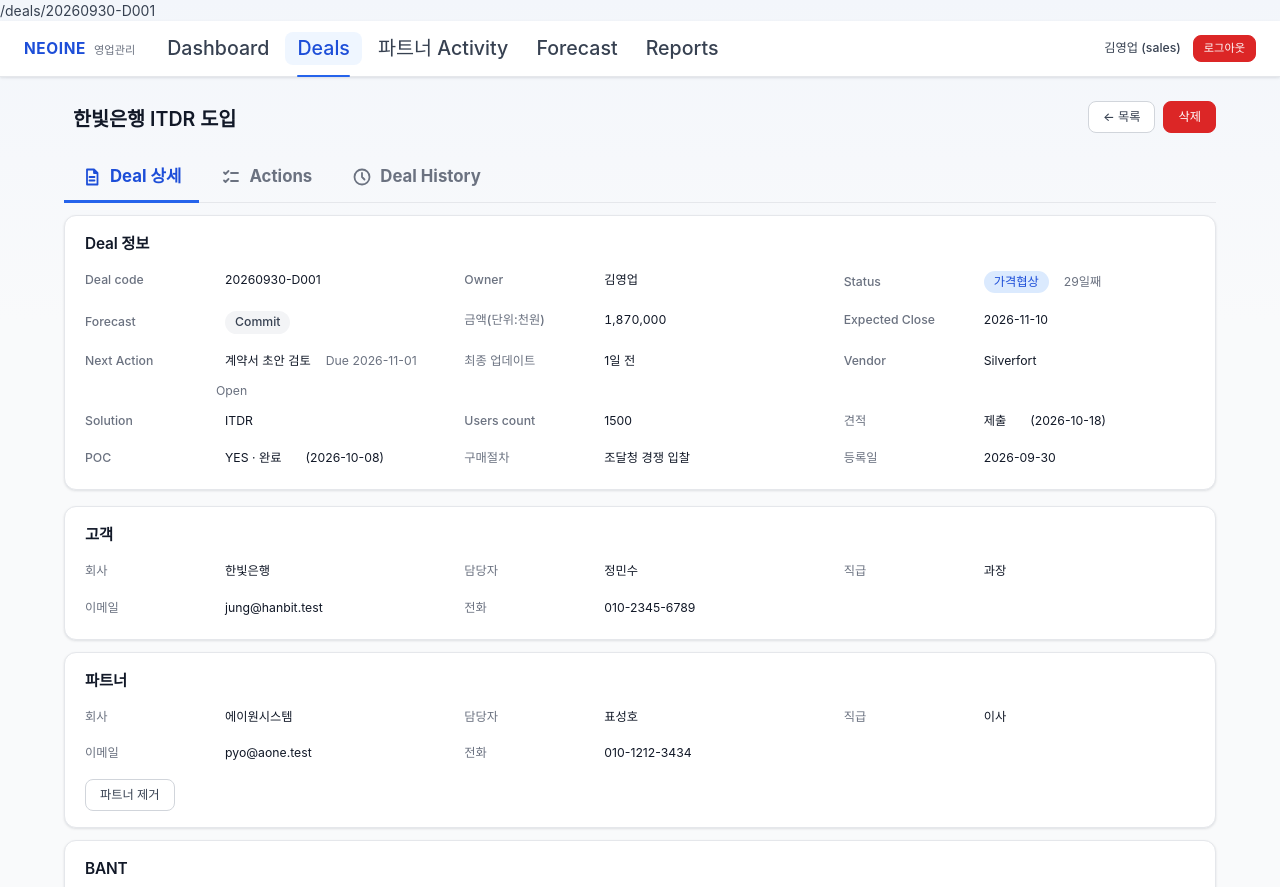
Test case: 상세 현재값 바 인라인 변경 (T-SYNC-UI 상세) › keeps the old values when the revenue dialog is cancelled
The image size is (1280, 887).
Expected: the heading "한빛은행 ITDR 도입" is shown, [64, 101, 245, 138]
Click the button with aria-label "Status 수정": {"x": 1016, "y": 282} [975, 265, 1058, 299]
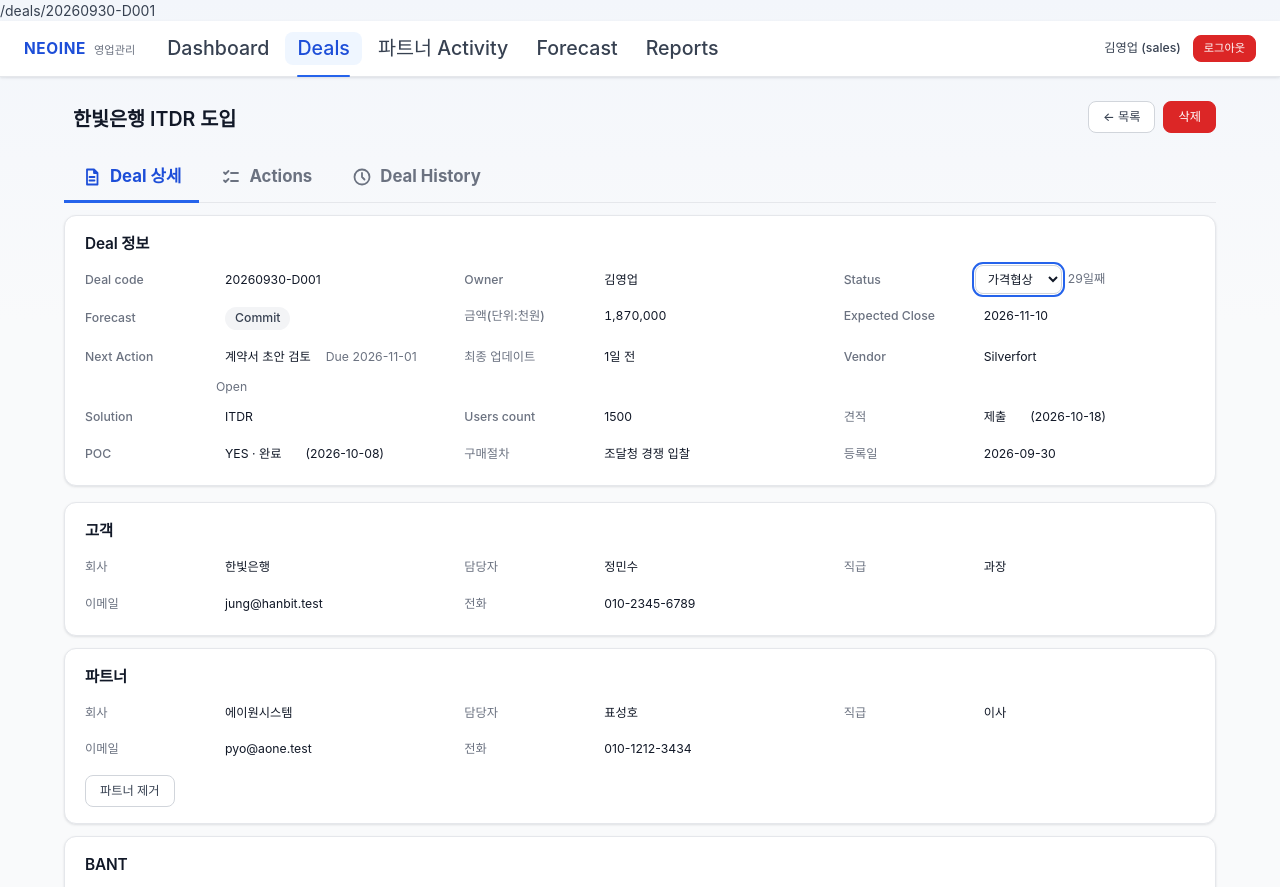
Select "계약완료" in the dropdown named "Status": {"x": 1018, "y": 279} [975, 265, 1062, 294]
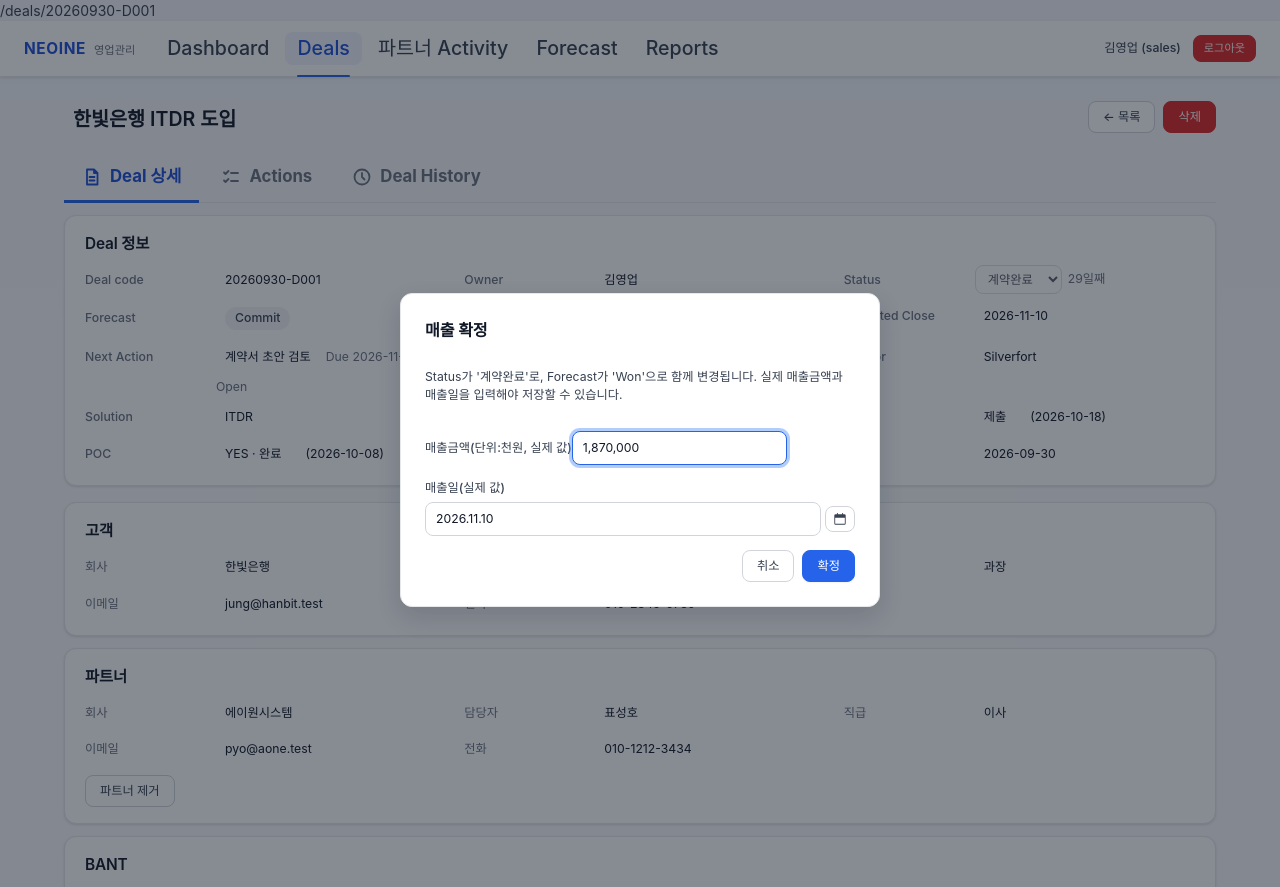
Click the button "취소": {"x": 768, "y": 566} [742, 550, 794, 582]
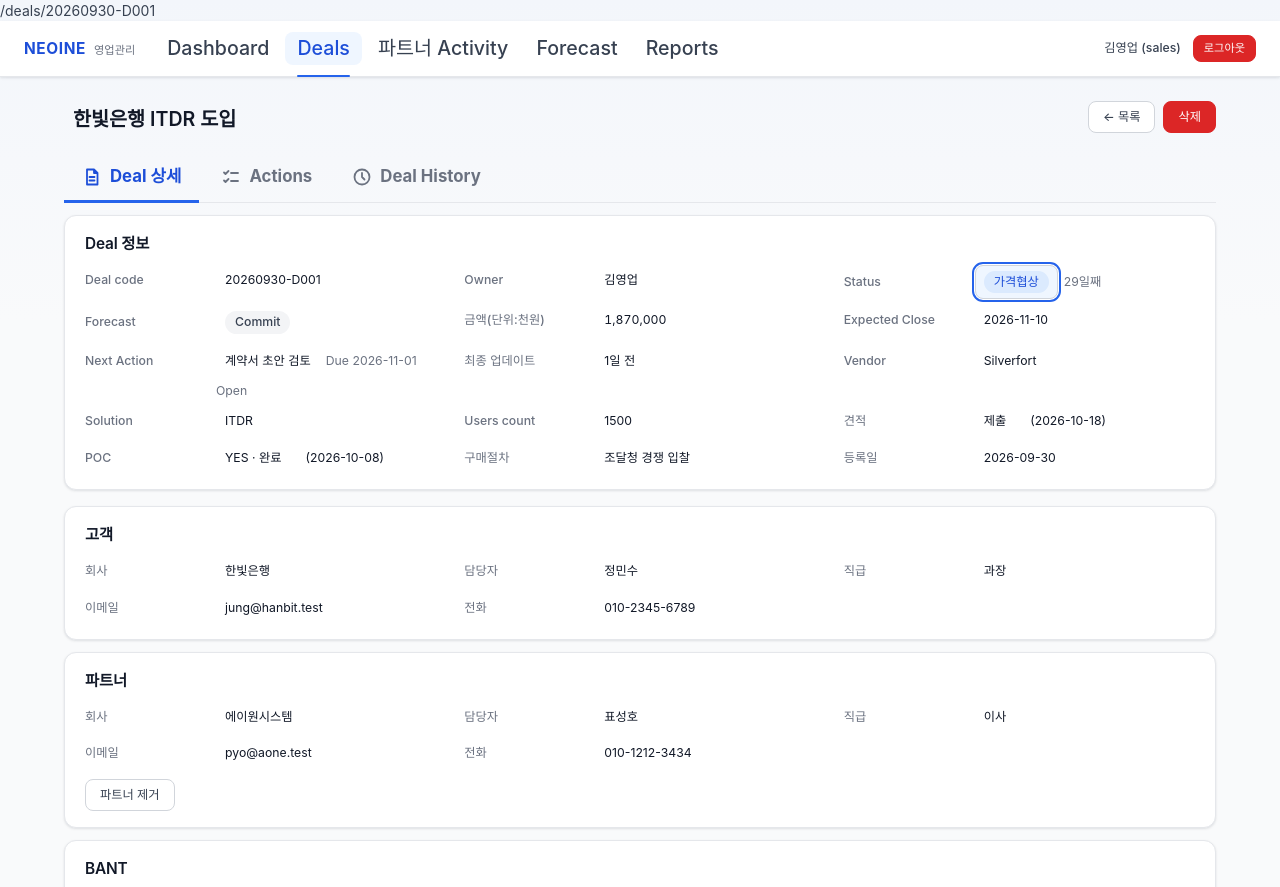
Expected: the button with aria-label "Forecast 수정" reads "Commit", [216, 305, 299, 340]
Expected: the dialog is gone
Expected: the button with aria-label "Status 수정" reads "가격협상", [975, 265, 1058, 299]
